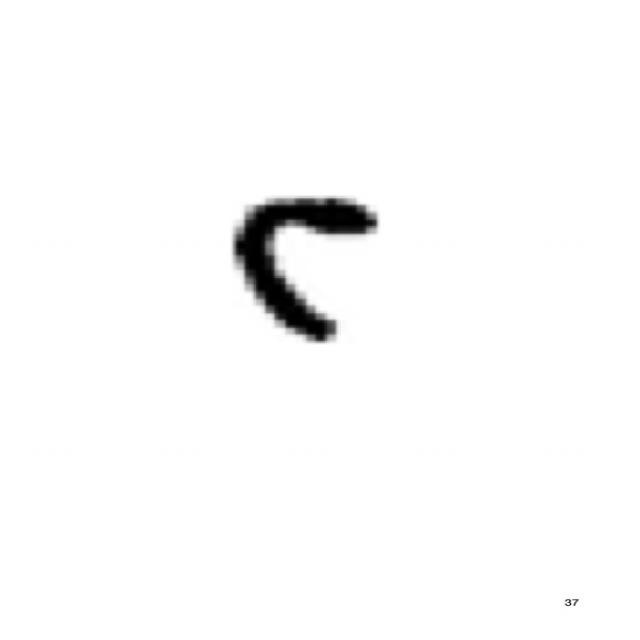2 -two-: (215, 179, 395, 355)
